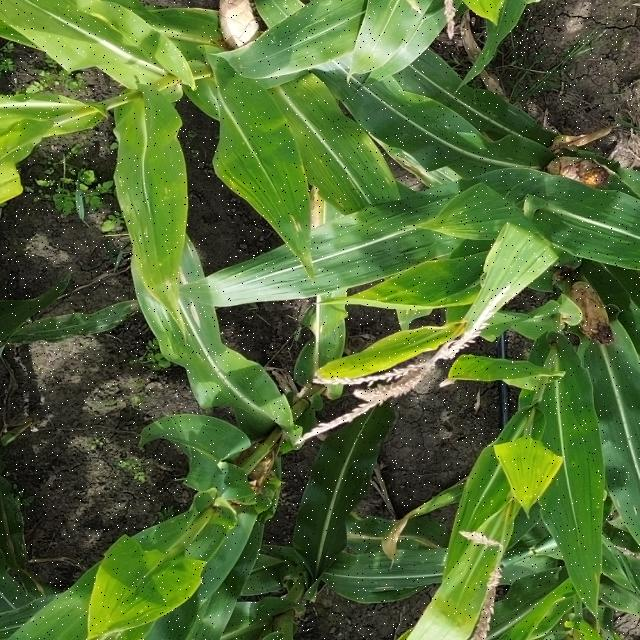gray-leaf-spot: (167, 264, 209, 337), (606, 467, 640, 515)
southern-leaf-blight: (36, 317, 104, 340)
